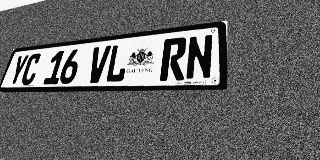1: (43, 50, 67, 85)
6: (58, 48, 83, 84)
C: (19, 53, 42, 85)
L: (104, 43, 130, 83)
N: (185, 34, 213, 80)
R: (159, 37, 187, 81)
V: (86, 45, 111, 83)
Y: (7, 54, 30, 86)
